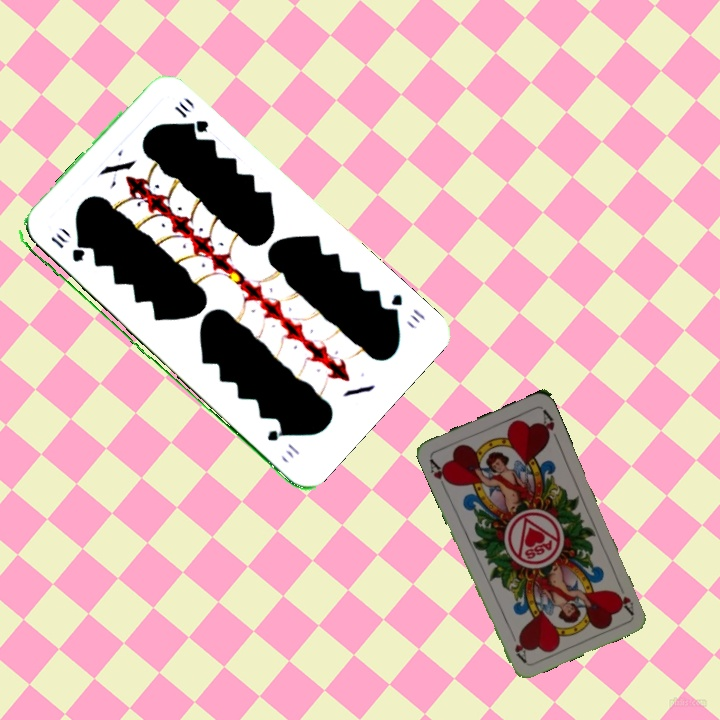G10: (382, 290, 428, 325), (46, 229, 86, 265)
HA: (425, 454, 454, 492), (611, 578, 636, 617)
